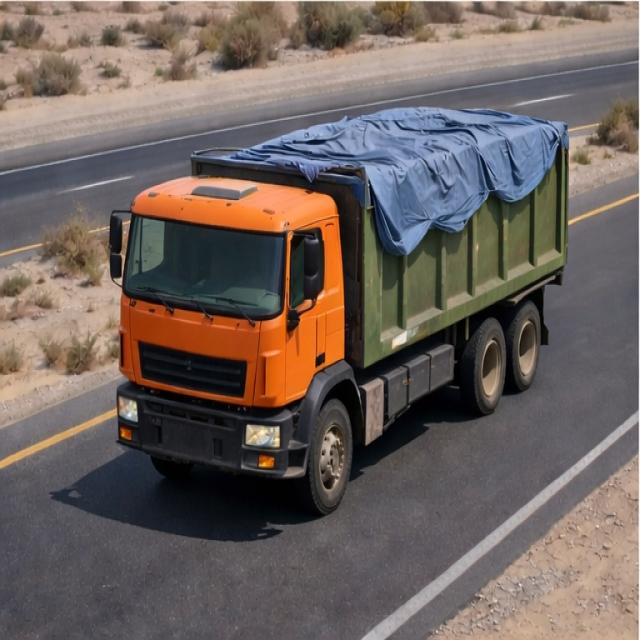trailer: (195, 101, 569, 170)
truck: (106, 87, 592, 485)
